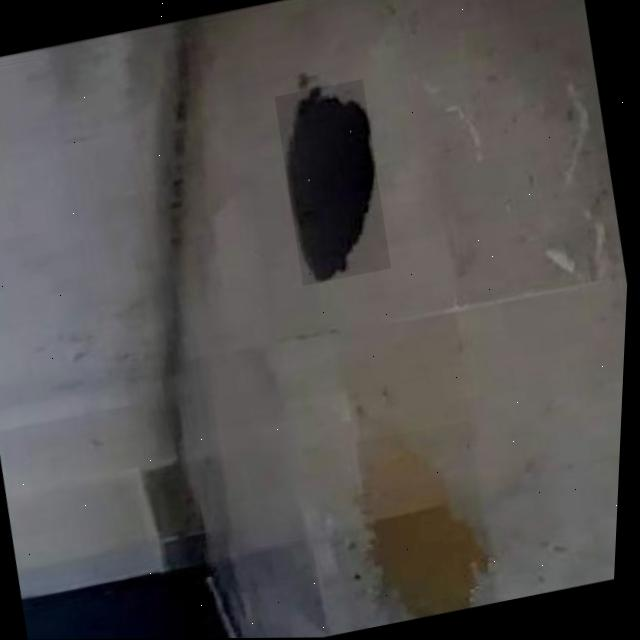spillage: (370, 438, 495, 621), (288, 88, 377, 282)
